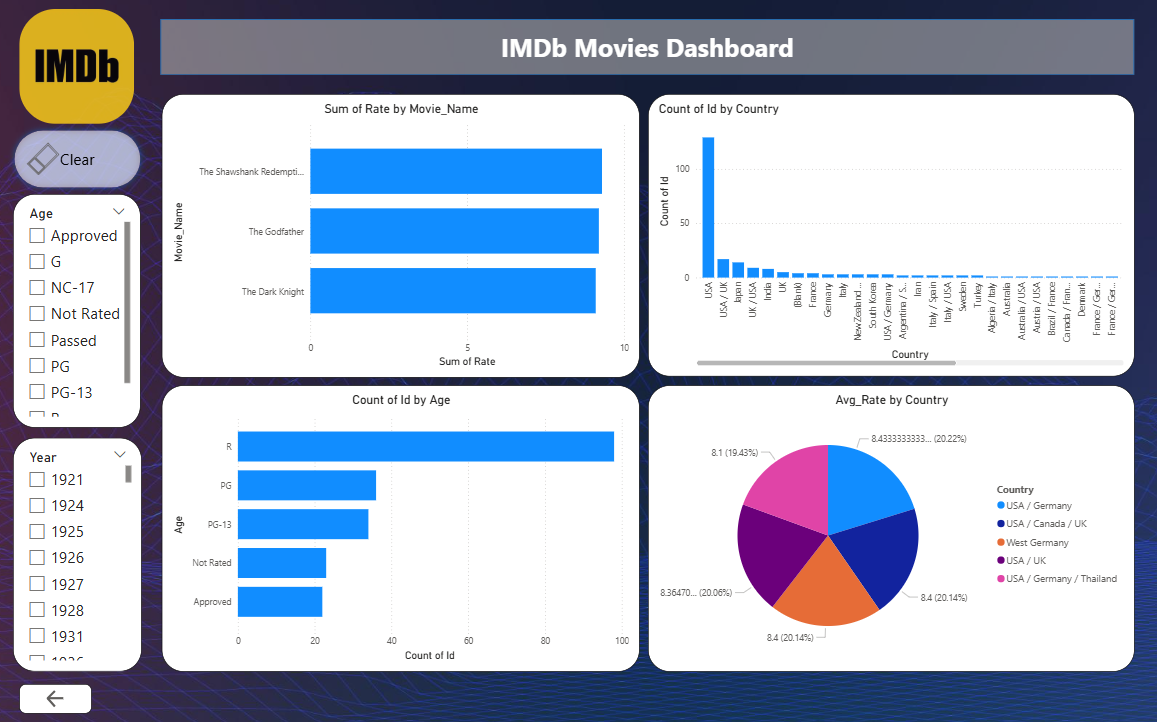

Layout of this report page (visuals, bound fields, positions):
{"tool":"powerbi","page":{"name":"Page 2","canvas":[1600,1000],"ordinal":1},"visuals":[{"type":"clusteredBarChart","fields":{"Category":["Movies.Movie_Name"],"Y":["Sum(Movies.Rate)"]},"box":[225.4,130.5,659.3,391.5],"z":0},{"type":"barChart","fields":{"Category":["Movies.Age"],"Y":["CountNonNull(Movies.Id)"]},"box":[225.4,532.2,659.3,394.9],"z":1000},{"type":"columnChart","fields":{"Category":["Actress.Country"],"Y":["CountNonNull(Movies.Id)"]},"box":[896.6,130.5,671.2,389.8],"z":2000},{"type":"pieChart","fields":{"Category":["Actress.Country"],"Y":["Actress.Avg_Rate"]},"box":[896.6,532.2,671.2,394.9],"z":3000},{"type":"actionButton","box":[13.6,172.9,191.5,96.6],"z":4000},{"type":"slicer","fields":{"Values":["Movies.Age"]},"box":[20.3,269.5,176.3,322],"z":5000},{"type":"slicer","fields":{"Values":["Movies.Year"]},"box":[20.3,605.1,178,322],"z":6000},{"type":"image","box":[29.1,14.5,158.2,158.2],"z":7000},{"type":"shape","box":[224.7,27.4,1343.1,77.2],"z":8000},{"type":"actionButton","box":[28.8,944.1,100,40.7],"z":9000}]}

Visuals, with their boxes in screenshot pixels (x1, y1, x2, y2), scaled from the page's 1600x1000 canvas onto the 1157x722 screenshot:
clusteredBarChart - Movies.Movie_Name x Sum(Movies.Rate): {"left": 163, "top": 94, "right": 640, "bottom": 377}
barChart - Movies.Age x CountNonNull(Movies.Id): {"left": 163, "top": 384, "right": 640, "bottom": 669}
columnChart - Actress.Country x CountNonNull(Movies.Id): {"left": 648, "top": 94, "right": 1134, "bottom": 376}
pieChart - Actress.Country x Actress.Avg_Rate: {"left": 648, "top": 384, "right": 1134, "bottom": 669}
actionButton: {"left": 10, "top": 125, "right": 148, "bottom": 195}
slicer - Movies.Age: {"left": 15, "top": 195, "right": 142, "bottom": 427}
slicer - Movies.Year: {"left": 15, "top": 437, "right": 143, "bottom": 669}
image: {"left": 21, "top": 10, "right": 135, "bottom": 125}
shape: {"left": 162, "top": 20, "right": 1134, "bottom": 76}
actionButton: {"left": 21, "top": 682, "right": 93, "bottom": 711}
